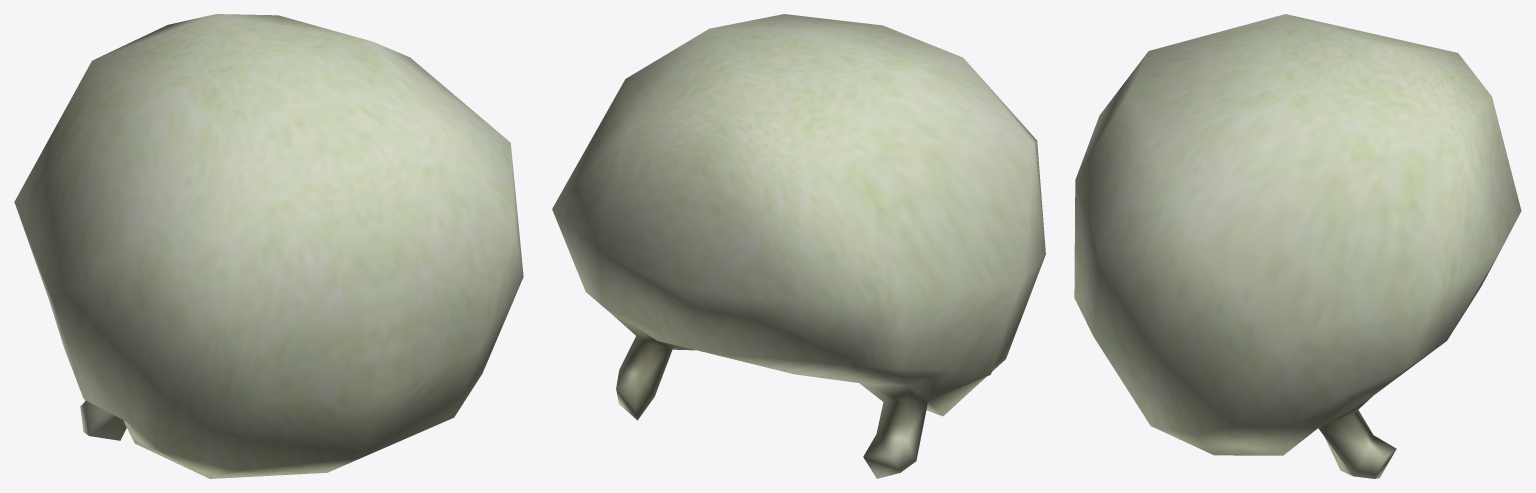
Rendered from afroC.glb.
The picture shows the model from 3 angles, left to right: view 1: azimuth 30°, elevation 25°; view 2: azimuth 150°, elevation 25°; view 3: azimuth 270°, elevation 25°; orthographic projection. The views are drawn at different scales.
Visible parts, largest first — view 1: afroC; view 2: afroC; view 3: afroC.
Boxes of the visible parts, x1=… form: afroC: x1=14, y1=14, x2=523, y2=478; afroC: x1=552, y1=14, x2=1045, y2=478; afroC: x1=1074, y1=14, x2=1521, y2=478.
Bounding box in the file's own units: 0.6149 × 0.5076 × 0.5539.
Materials: 1 (1 with a texture image).
